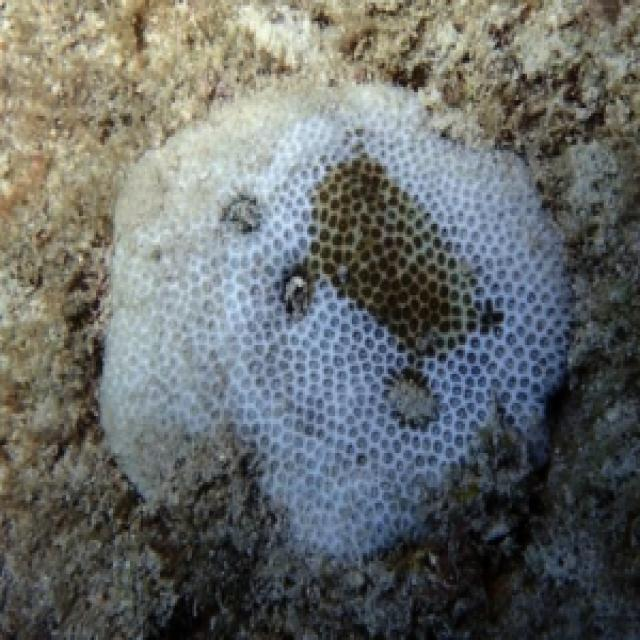Coral: (98, 81, 575, 565)
